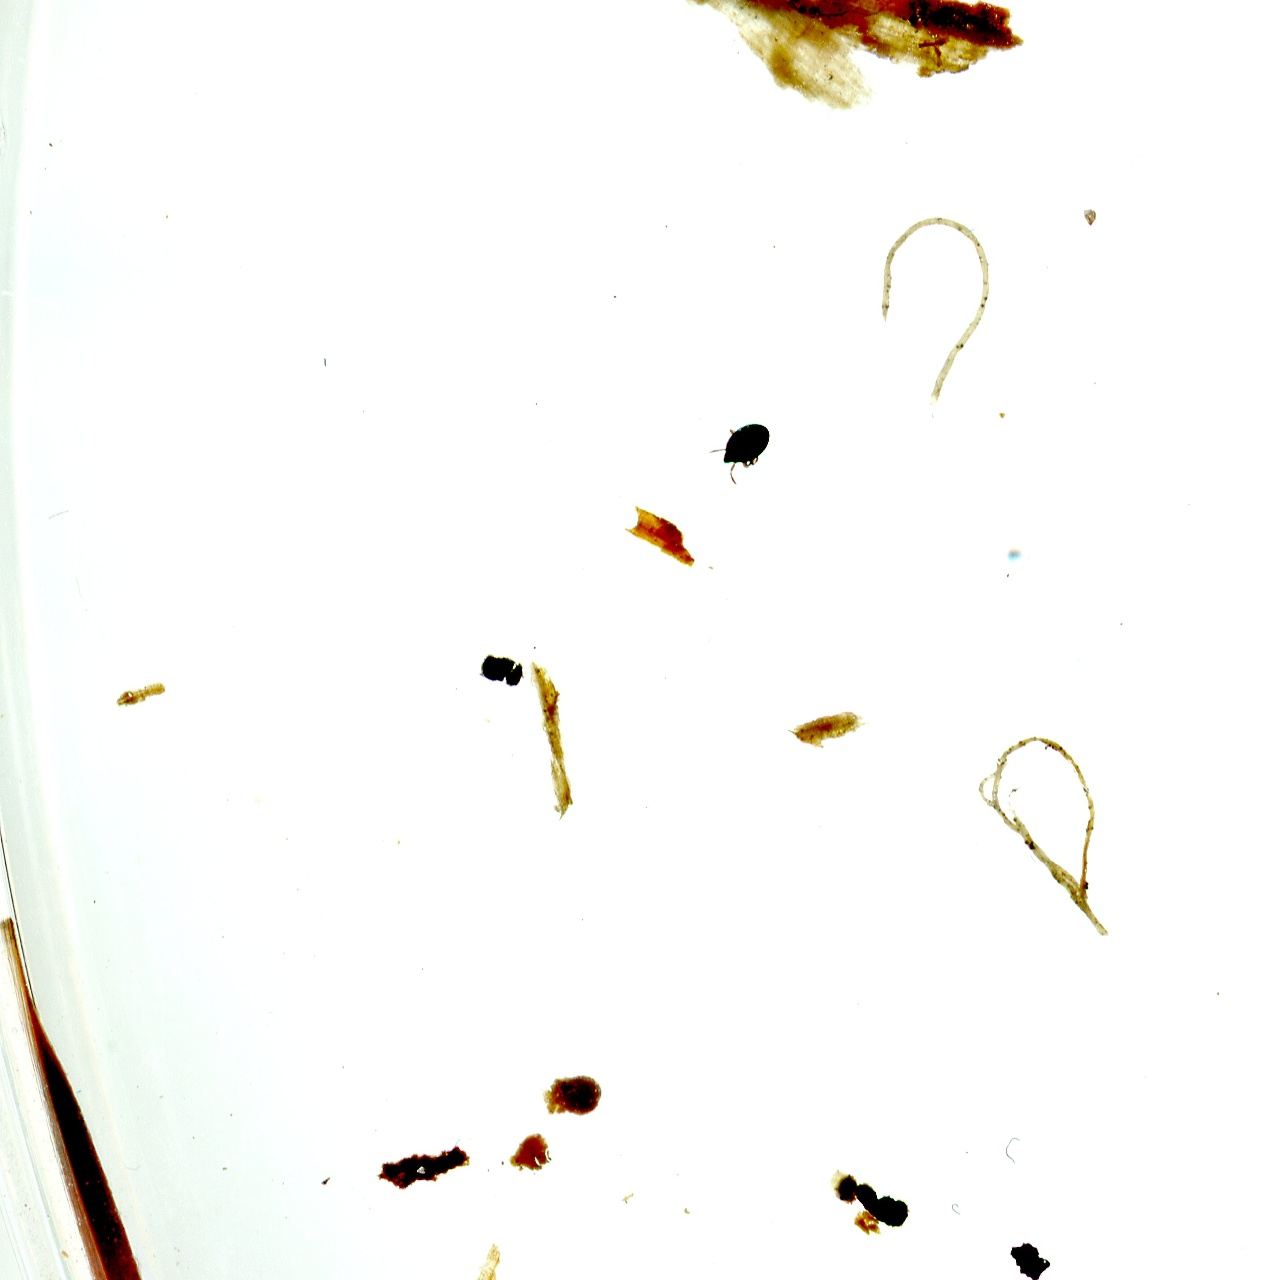arthropod: (705, 416, 776, 491)
